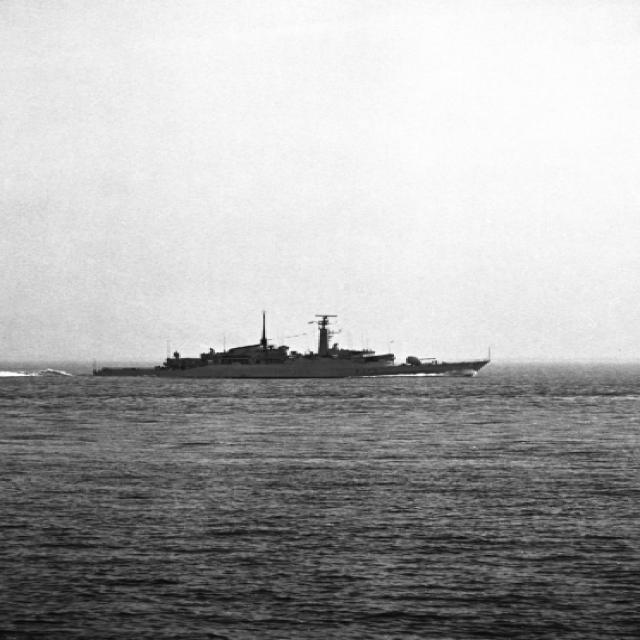Fragata: (85, 300, 505, 383)
